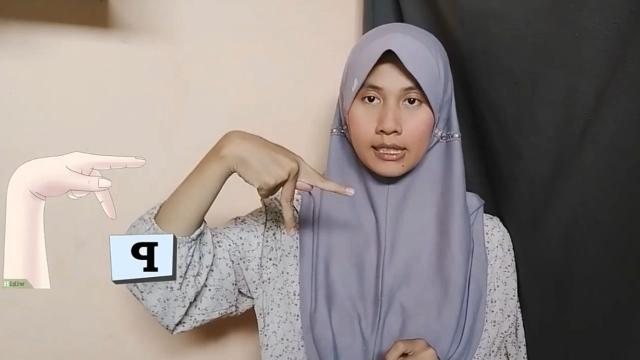P: (220, 132, 356, 238)
